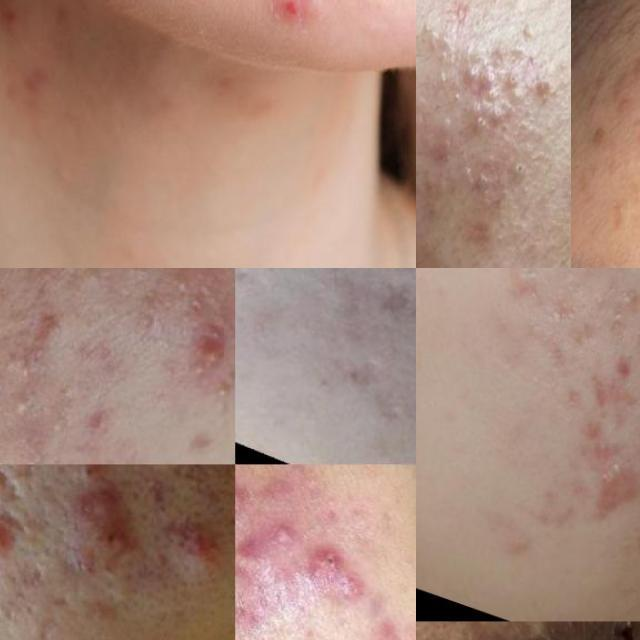acne_scars: (361, 277, 416, 338), (582, 371, 640, 425), (523, 499, 582, 540), (596, 313, 635, 356), (564, 317, 598, 361), (464, 213, 495, 246), (574, 417, 604, 445)
comedone: (0, 371, 49, 428), (466, 97, 514, 143), (509, 150, 540, 190), (438, 110, 458, 158), (427, 28, 462, 52), (481, 65, 503, 103), (520, 16, 541, 45), (447, 83, 468, 111), (476, 170, 495, 200), (416, 88, 431, 112), (506, 68, 518, 90)
flat_wart: (573, 30, 640, 161)
papule: (158, 514, 235, 578), (580, 444, 640, 526), (79, 520, 143, 576), (69, 474, 128, 530), (195, 310, 235, 370), (602, 346, 640, 392), (530, 71, 554, 106), (416, 231, 425, 268)
pustule: (262, 506, 311, 564), (0, 507, 24, 571)
sebo-crystan-conglo: (300, 536, 390, 615), (235, 538, 285, 600), (235, 464, 262, 535), (595, 621, 640, 640), (494, 628, 552, 640)
